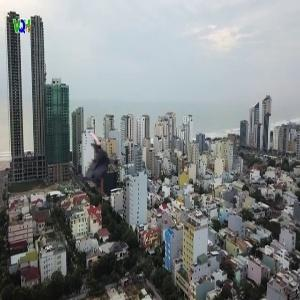drone: (65, 134, 132, 201)
